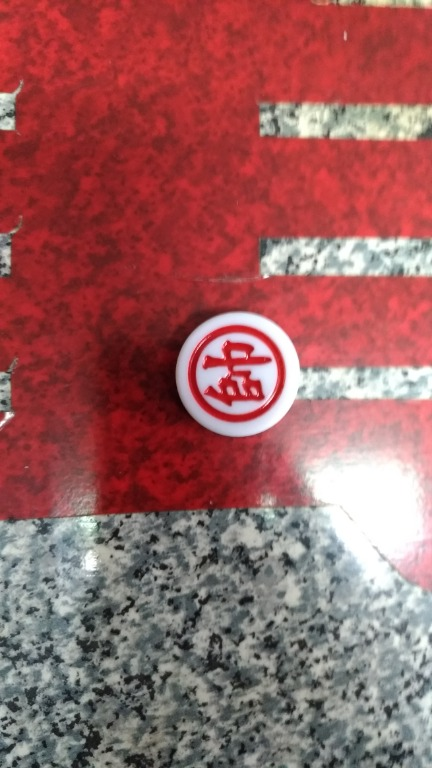r-king: (168, 309, 311, 443)
